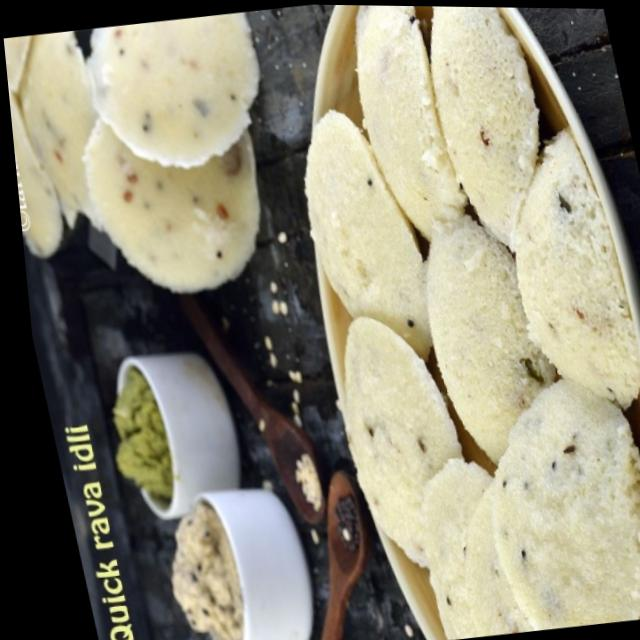EGG: (301, 5, 640, 635)
IDLI: (4, 12, 262, 290)
